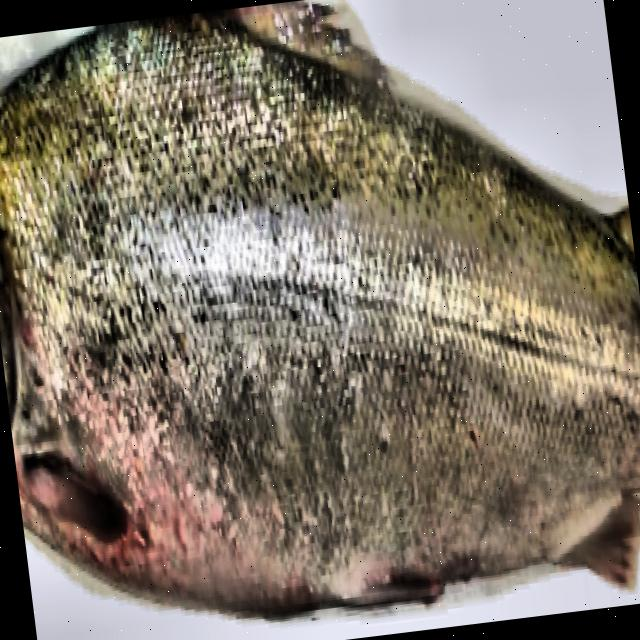mild_red: (0, 14, 640, 614)
